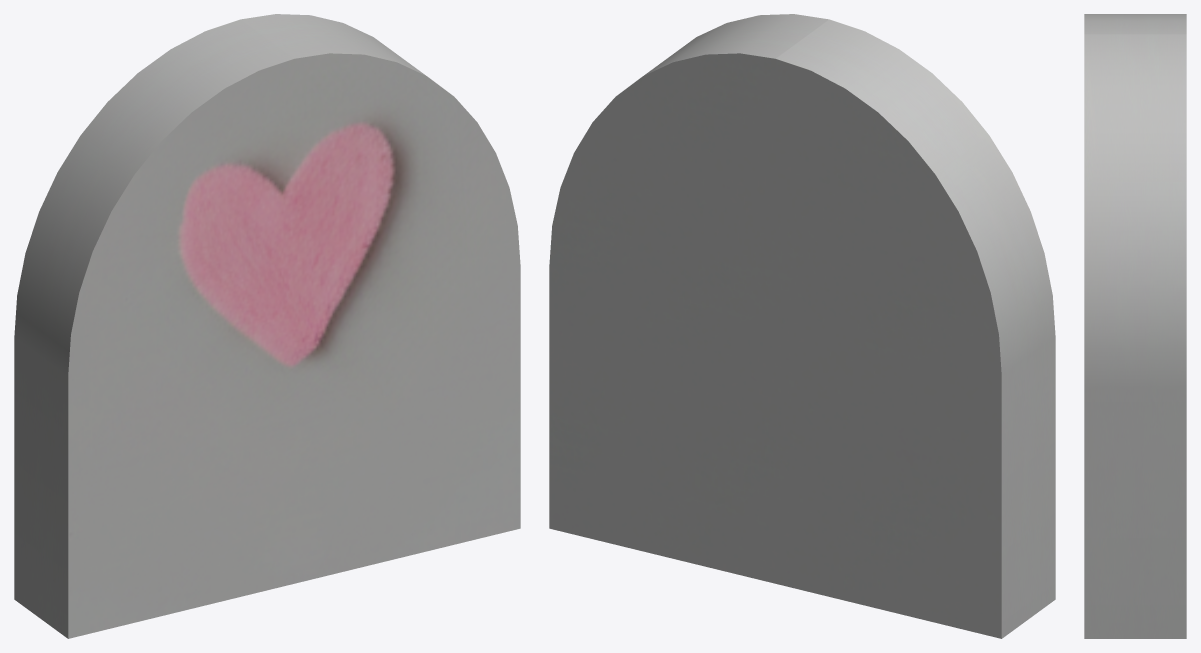
Rendered from tumba2.obj.
3 renders of one model, left to right at view 1: azimuth 30°, elevation 25°; view 2: azimuth 150°, elevation 25°; view 3: azimuth 270°, elevation 25°, orthographic. The views are drawn at different scales.
Visible parts, largest first — view 1: Cube; view 2: Cube; view 3: Cube.
Part boxes in pixels (x1,y1,x2,y2): Cube: [14, 14, 520, 638]; Cube: [549, 14, 1055, 638]; Cube: [1084, 14, 1186, 638].
Size of the model in its own units: 3.19 by 3.54 by 0.6576.
1 material, 1 textured.
